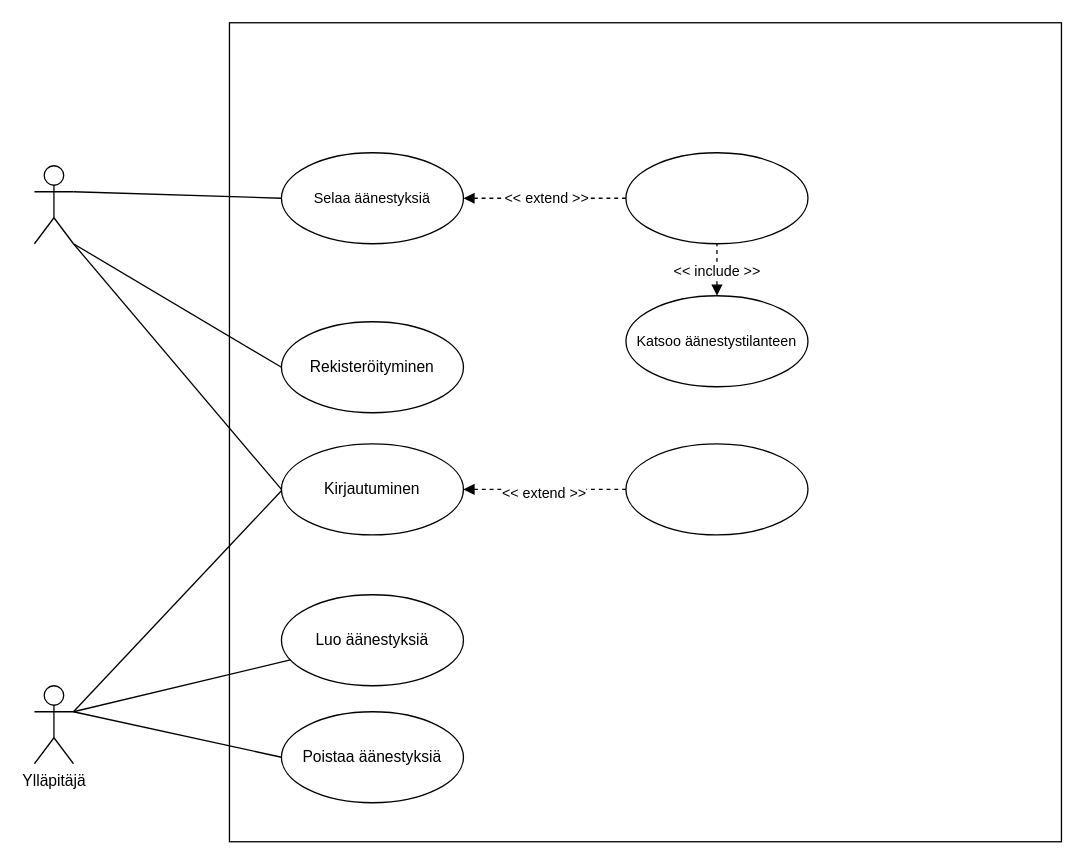
This 1084x864 diagram has some shape labels left out. The shapes that lost their labels are listed below. From the top down, each one's centre as x and y in pixels, then its label:
At (x=53, y=204): "Käyttäjä".
At (x=716, y=197): "Käy äänestämässä".
At (x=716, y=489): "Salasanan resetointi".
